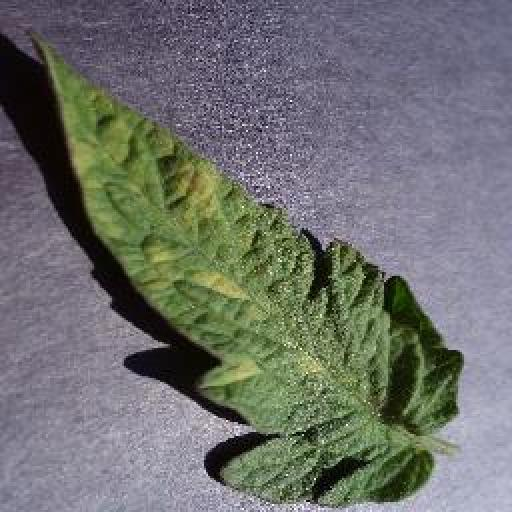Leaf Mold: (38, 27, 465, 508)
